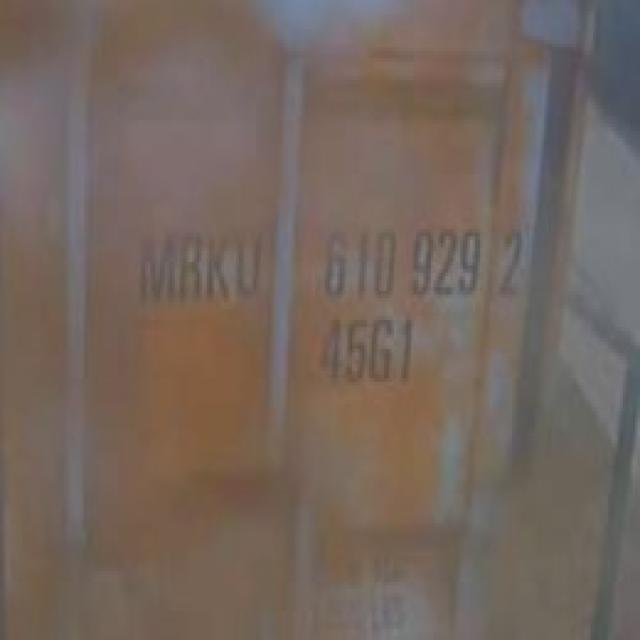dv: (493, 222, 528, 297)
owner: (132, 210, 268, 310)
serial: (313, 214, 485, 306)
size: (313, 310, 418, 388)
